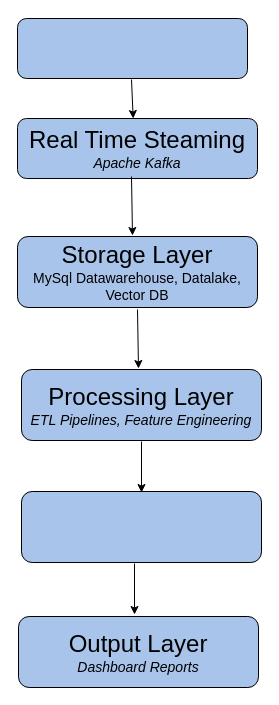
This 279x705 diagram has some shape labels left out. Each missing label, with the box of its shape:
AI Model ML Modeling NLP Research: (20, 490, 262, 562)
Data Sources Patient Records, Treatment Data, ICU Devices, Doctor Notes: (16, 18, 248, 78)
